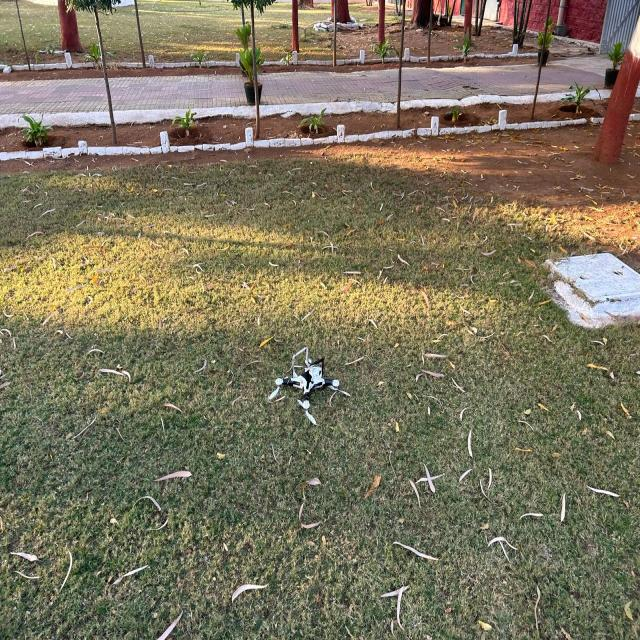drone: (263, 334, 346, 420)
